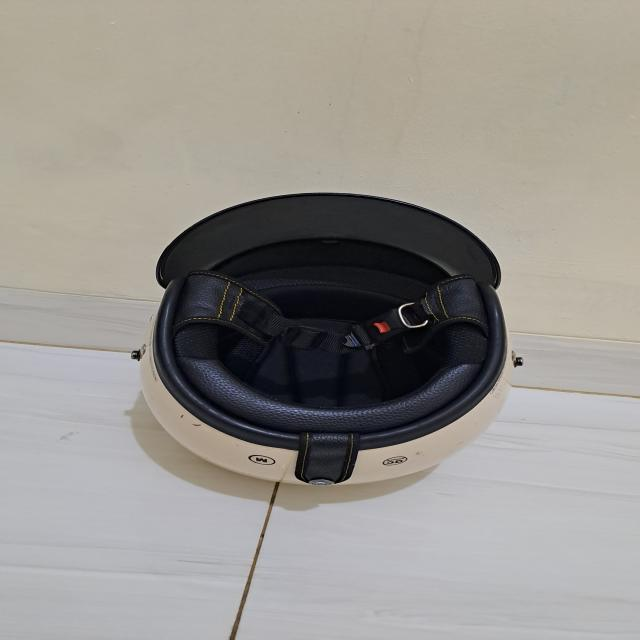Helm: (129, 182, 523, 490)
